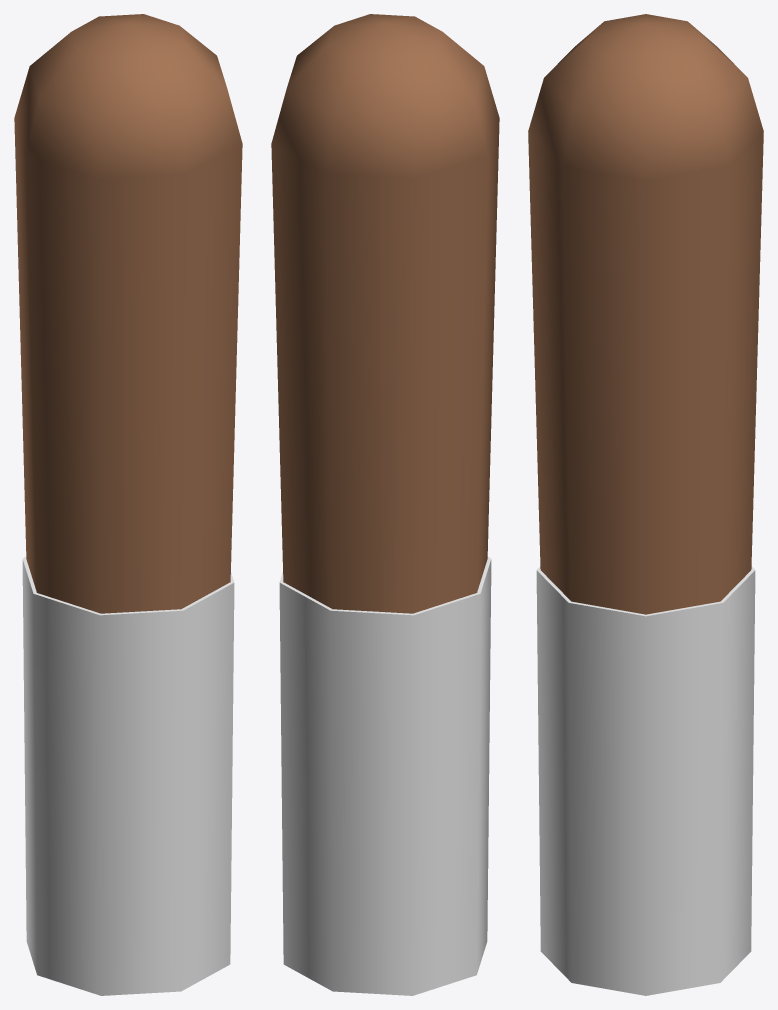
Rendered from Pierna.obj.
The picture shows the model from 3 angles, left to right: view 1: azimuth 30°, elevation 25°; view 2: azimuth 150°, elevation 25°; view 3: azimuth 270°, elevation 25°; orthographic projection.
Parts seen in each view (by area): view 1: Pierna; view 2: Pierna; view 3: Pierna.
Part boxes in pixels (box(x1,y1,x2,y2)): Pierna: box(14, 14, 242, 995); Pierna: box(271, 14, 499, 995); Pierna: box(528, 14, 763, 995).
Size of the model in its own units: 0.112 by 0.486 by 0.112.
1 material, 1 textured.
